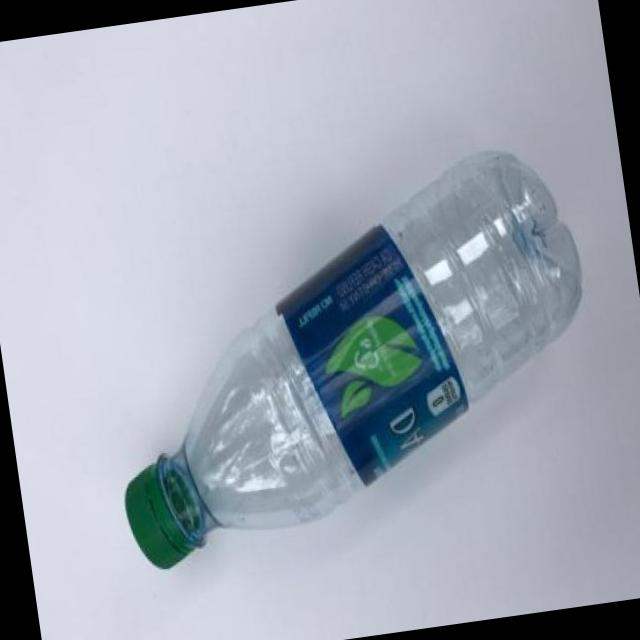plastic_bottle: (82, 141, 615, 574)
